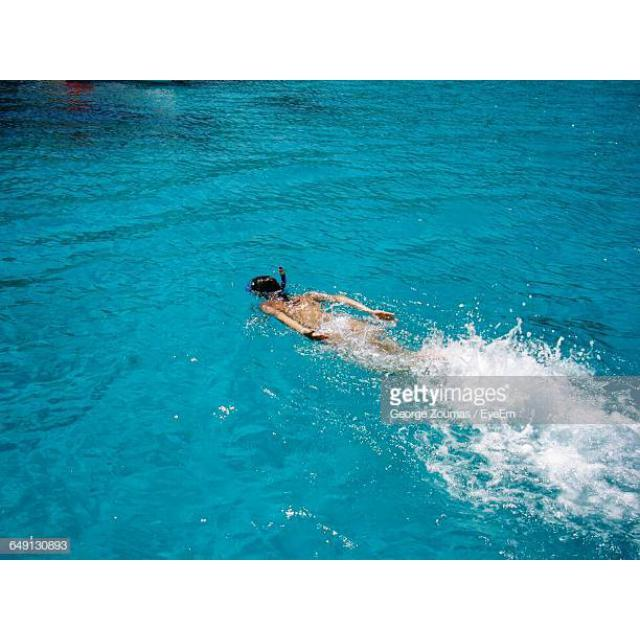human: (249, 266, 417, 368)
